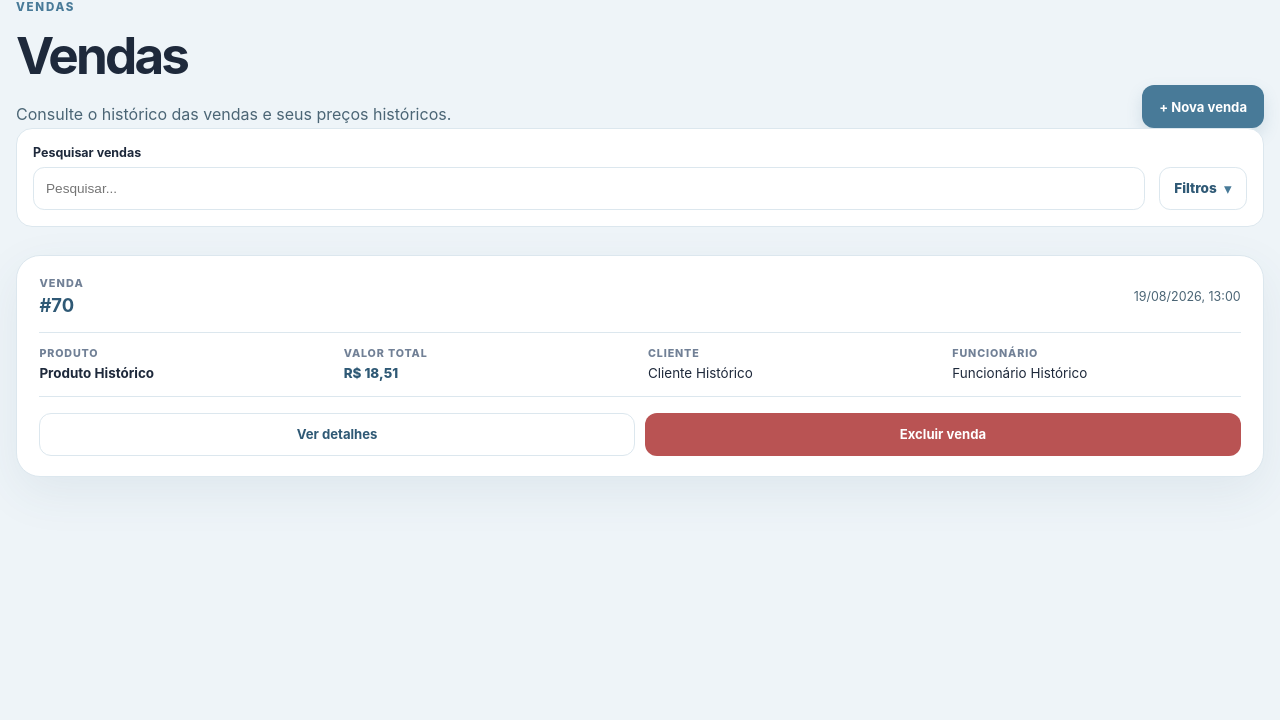
Test case: SalesPage › opens and cancels the explicit sale deletion confirmation
Check: the text "#70" is shown, box [39, 294, 74, 316]
What coordinates should you click on to do the following:
click the button "Excluir venda"
I would click on:
 (943, 434)
Its box is [645, 413, 1241, 456].
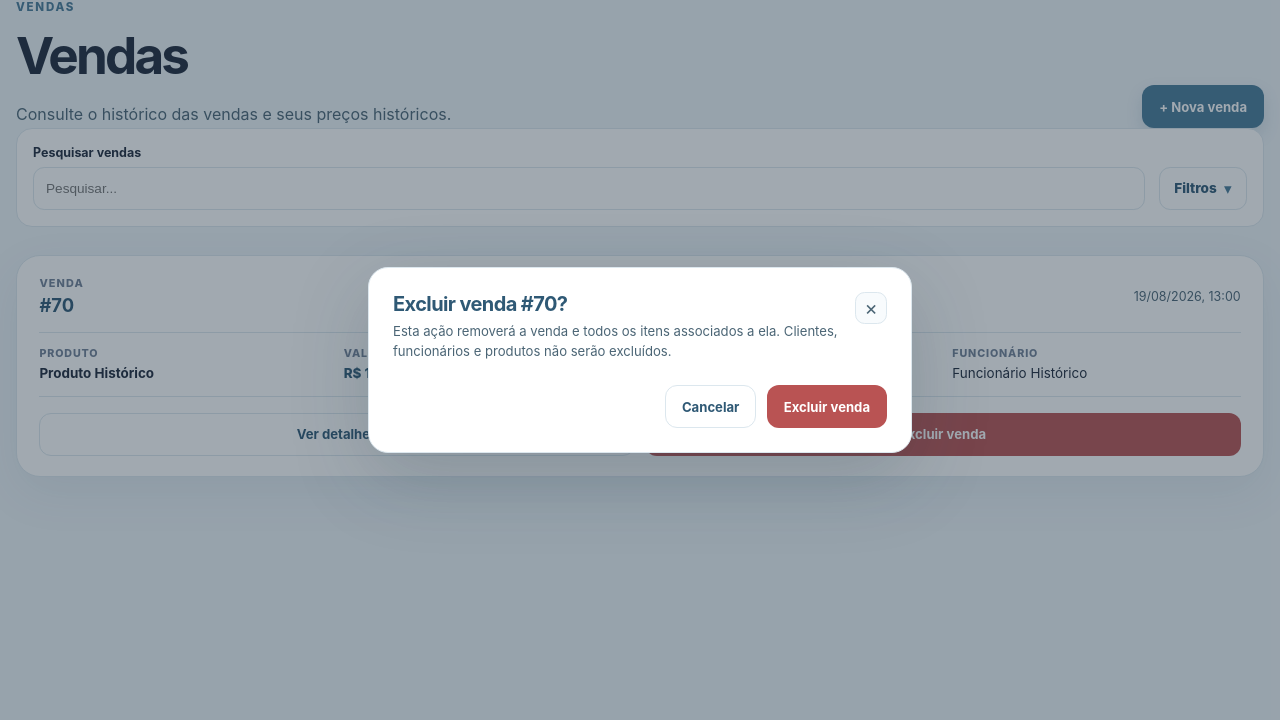
Check: the text "Clientes, funcionários e produtos não serão excluídos" is shown, box [393, 323, 838, 359]
What coordinates should you click on to do the following:
click the button "Cancelar"
I would click on:
 (711, 407)
Its box is [665, 385, 756, 428].
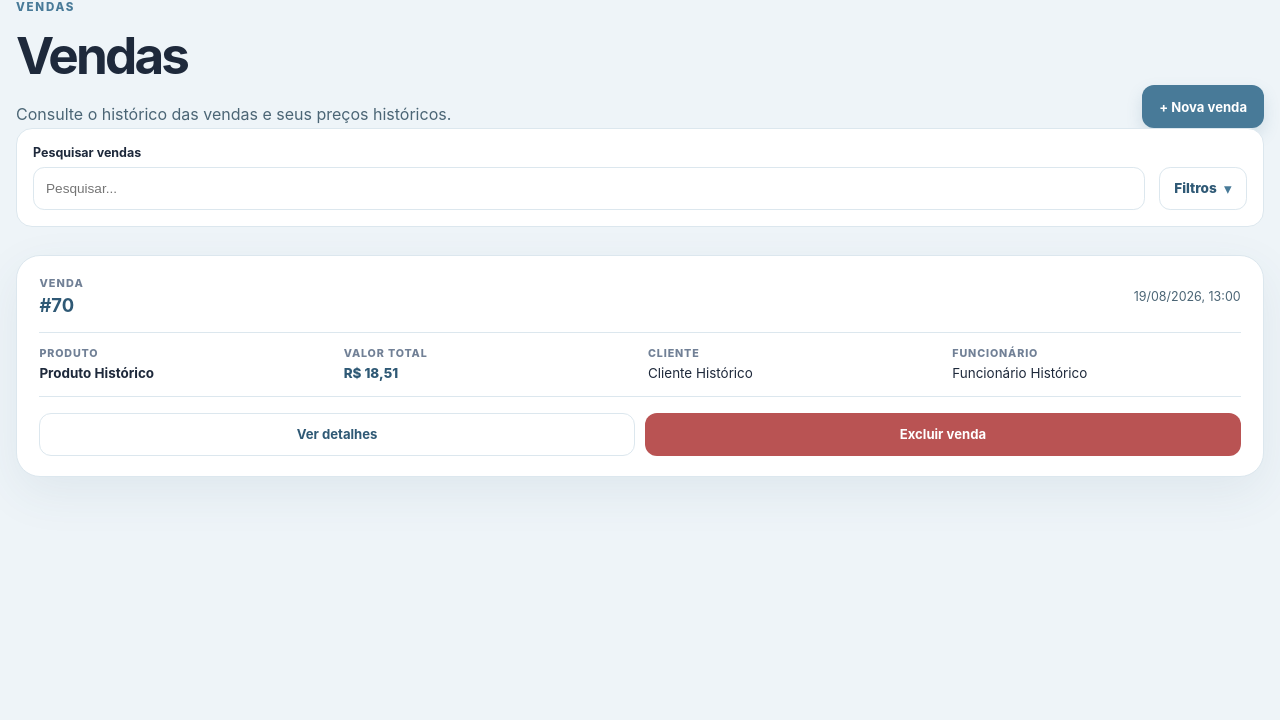
Check: the text "#70" is shown, box [39, 294, 74, 316]
Check: the heading "Excluir venda #70?" is gone
